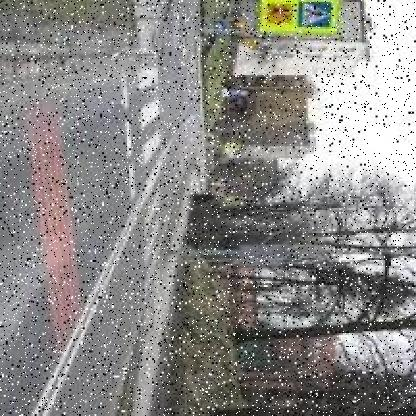Pedestrian Crossing: (294, 1, 334, 28)
